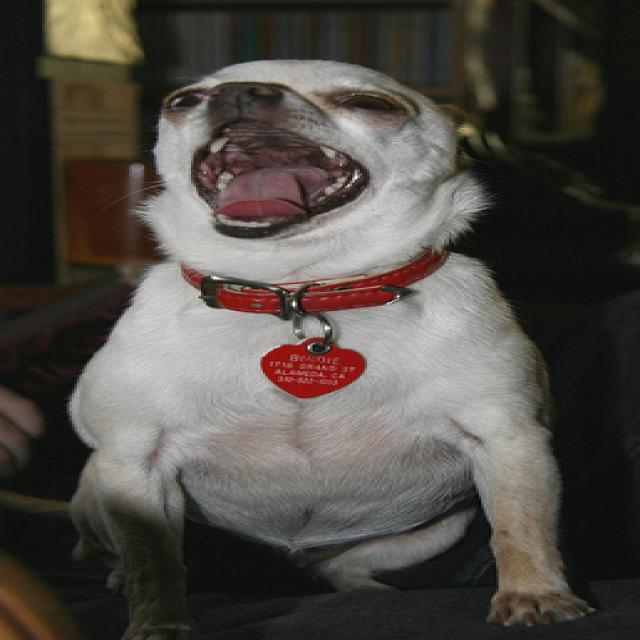dog: (60, 57, 599, 640)
